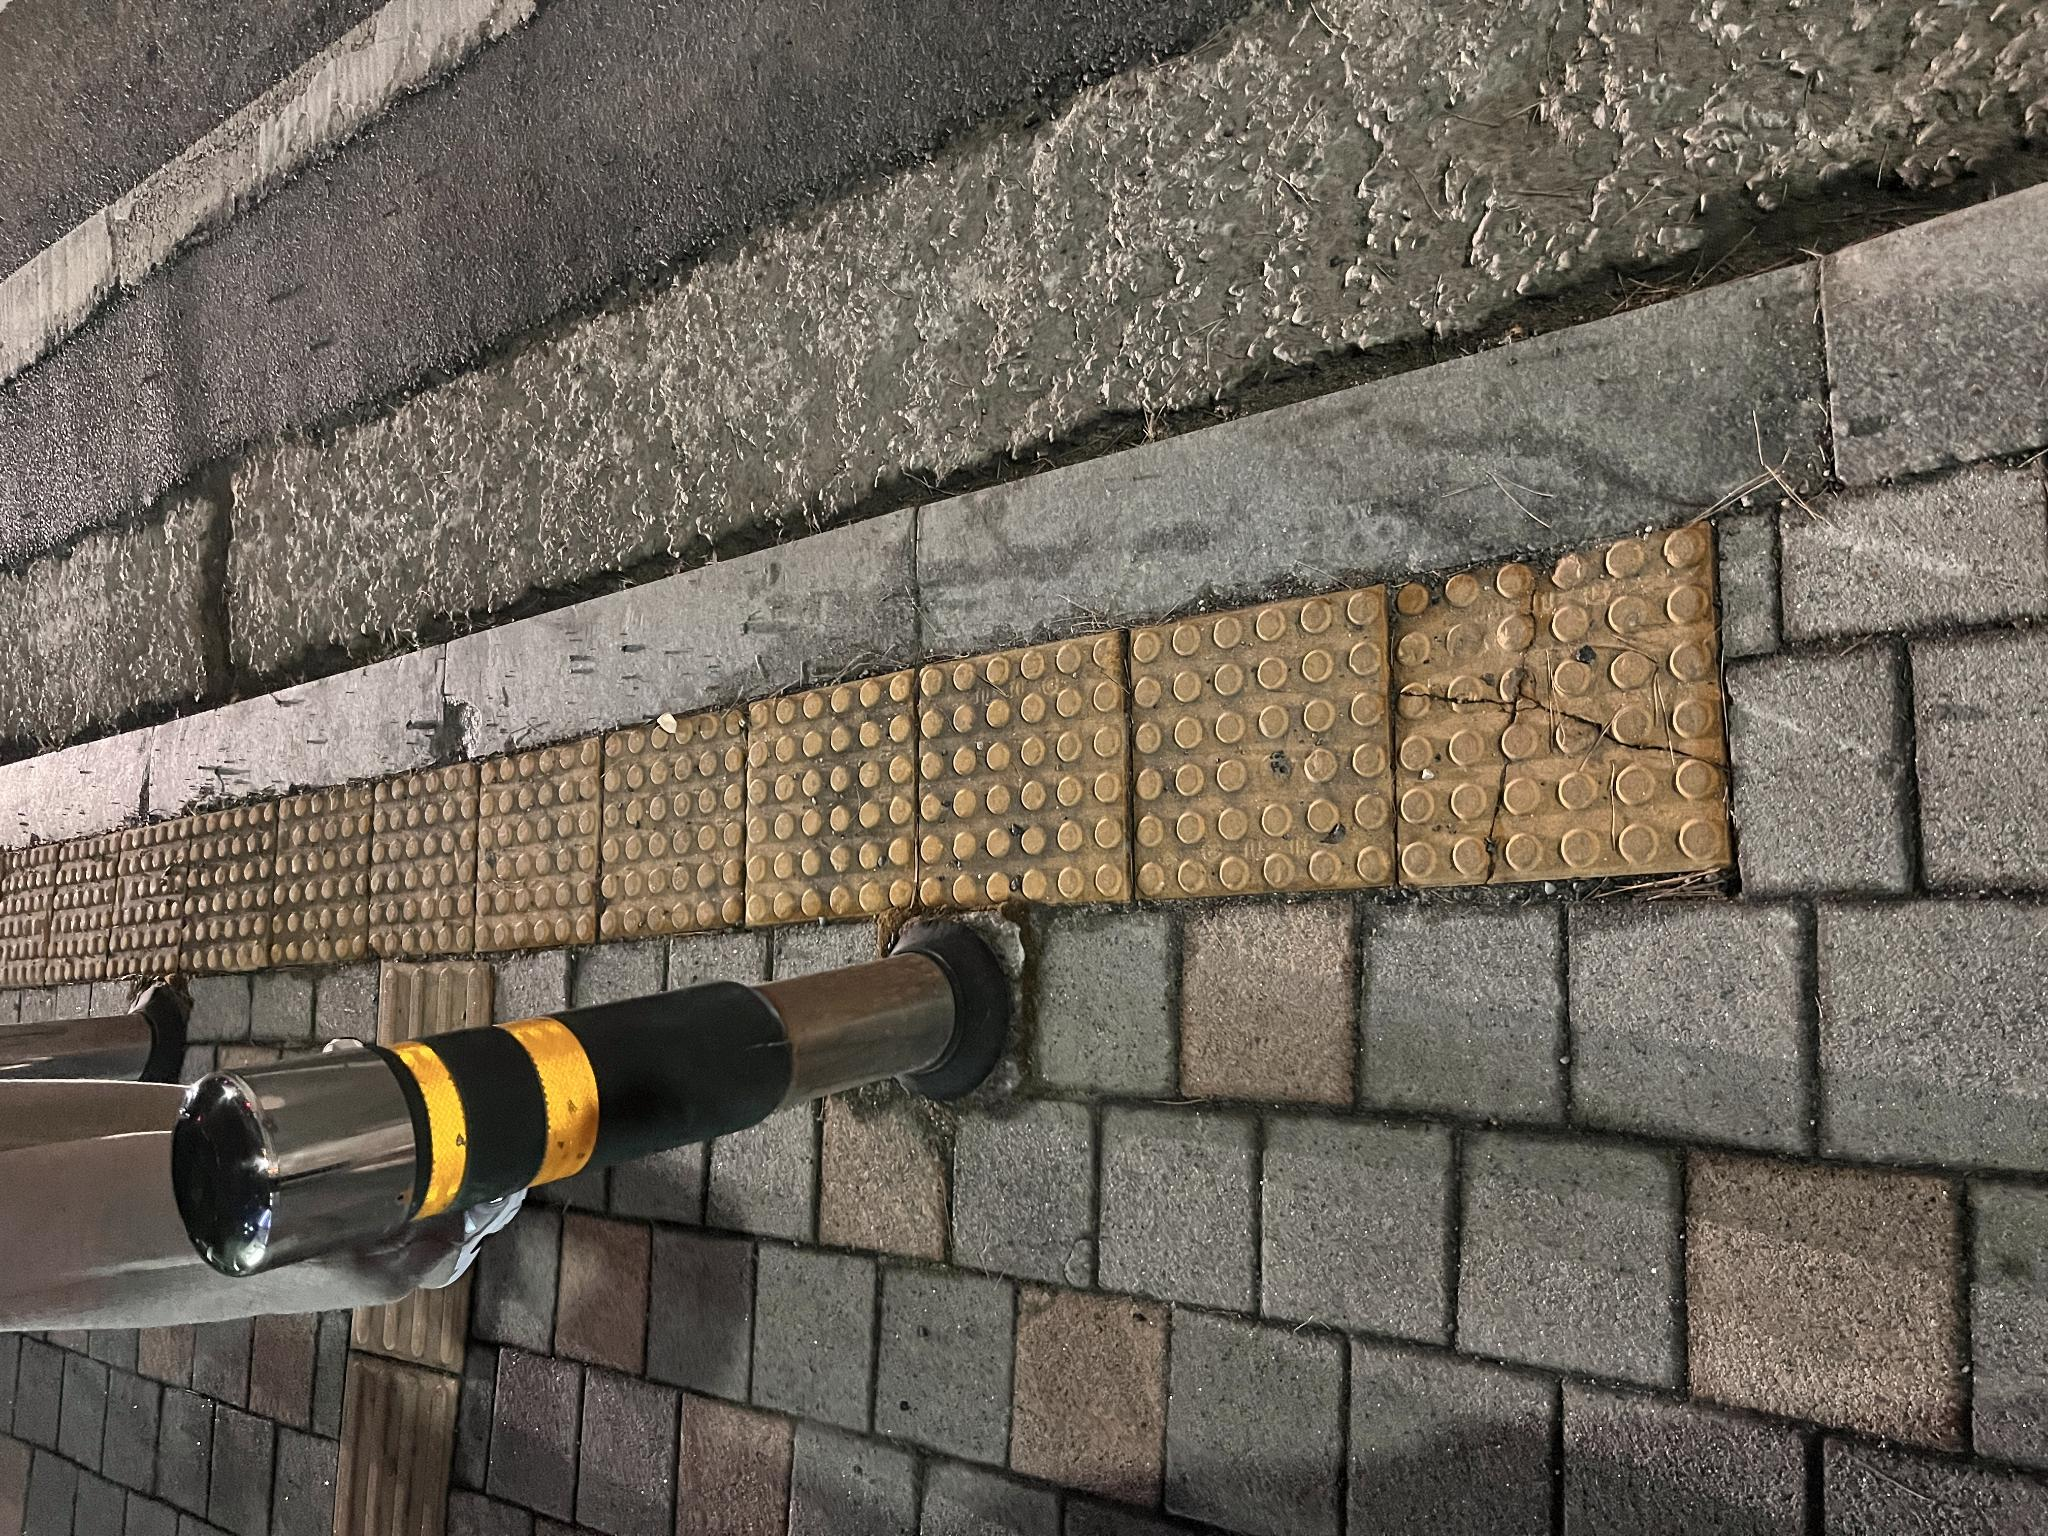Stop block broken: (650, 1392, 982, 1536)
Stop block normal: (635, 1131, 947, 1392), (626, 921, 906, 1125), (610, 745, 864, 912), (595, 600, 830, 742)
